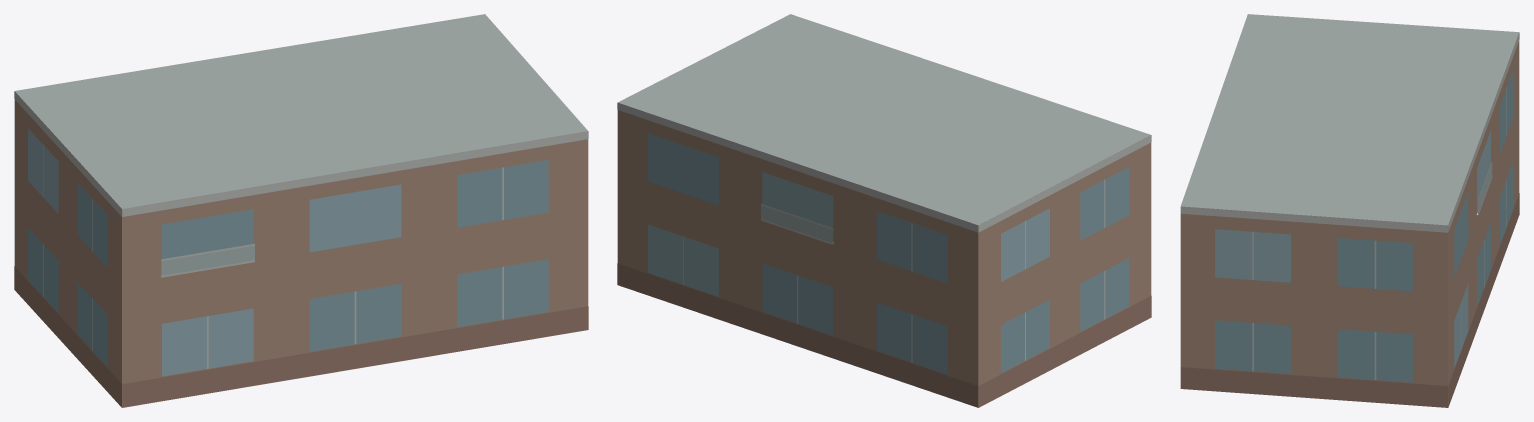
The model's file is survey-upis-32564959.glb.
The picture shows the model from 3 angles, left to right: view 1: azimuth 30°, elevation 25°; view 2: azimuth 150°, elevation 25°; view 3: azimuth 270°, elevation 25°; orthographic projection. The views are drawn at different scales.
Visible parts, largest first — view 1: survey-upis-32564959.tmp; view 2: survey-upis-32564959.tmp; view 3: survey-upis-32564959.tmp.
Part boxes in pixels (left/top/right/bottom): survey-upis-32564959.tmp: left=14, top=14, right=588, bottom=407; survey-upis-32564959.tmp: left=617, top=14, right=1151, bottom=407; survey-upis-32564959.tmp: left=1180, top=14, right=1519, bottom=407.
Size of the model in its own units: 15.18 by 6.1 by 10.29.
